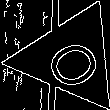O_NE: (33, 26, 106, 90)
